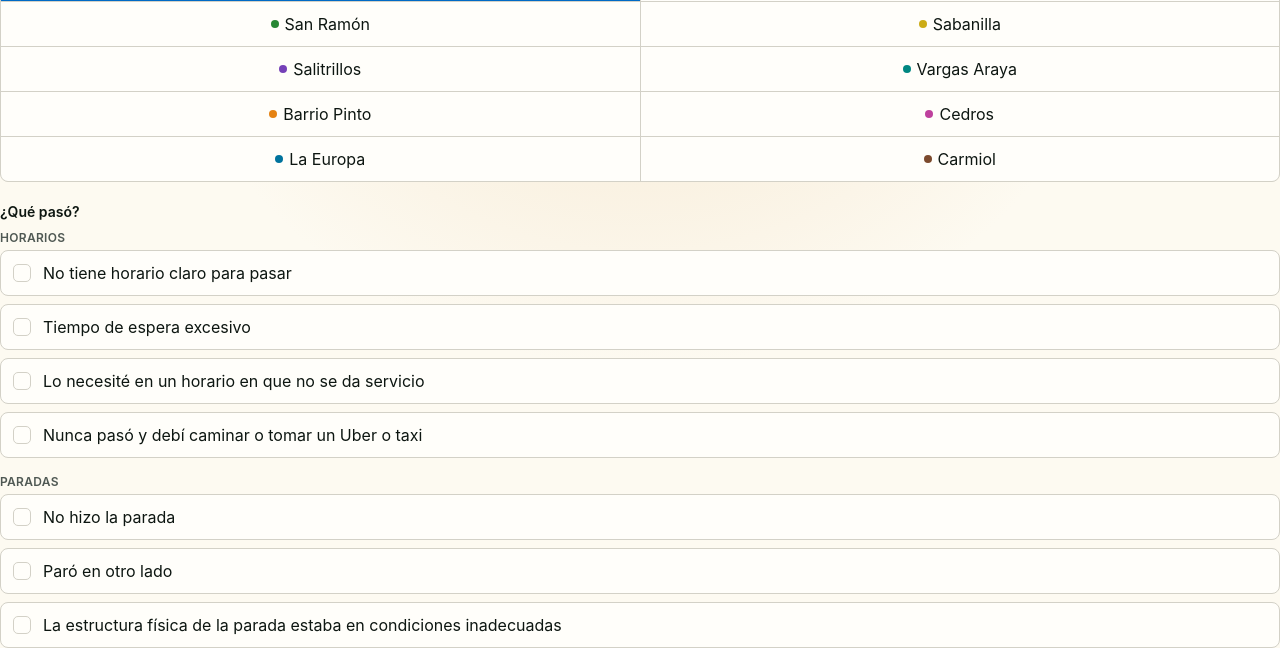
Test: ReportForm › shows the missing-problems reminder and keeps submission disabled until a problem is selected
Click the button "No tiene horario claro para pasar" at (167, 273), box x1=0 y1=250 x2=1279 y2=296
(page scrolled)
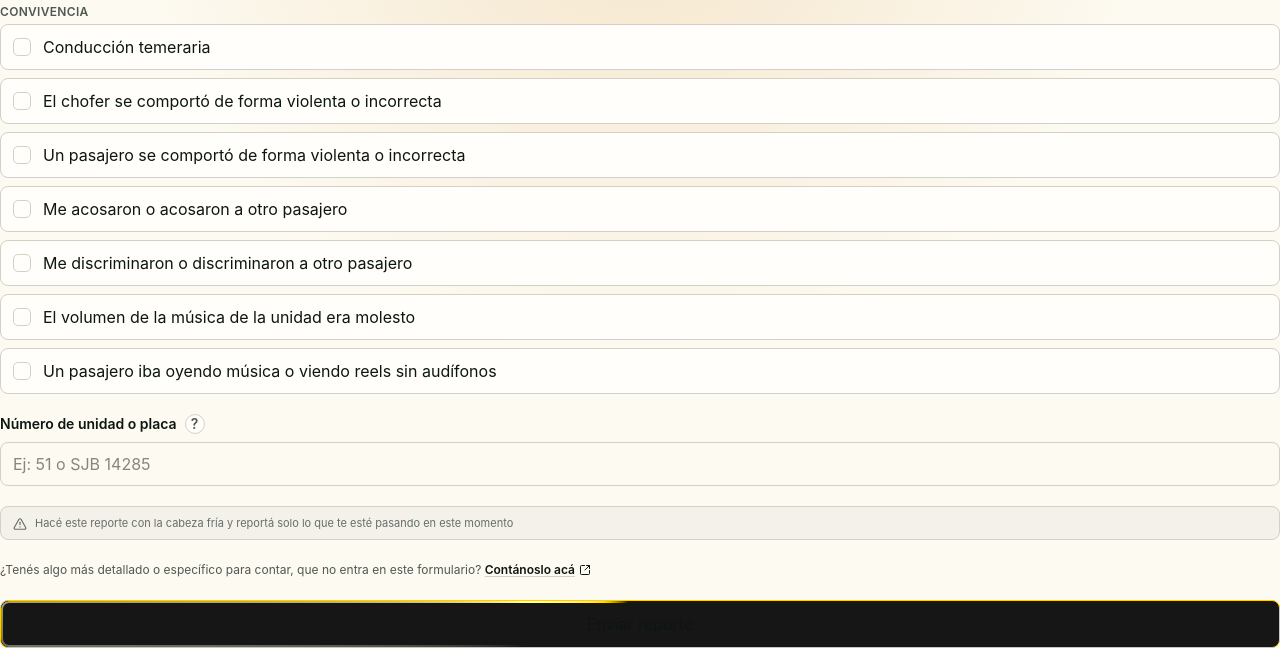
Check: the button with test id "submit-report" is enabled, box x1=0 y1=600 x2=1279 y2=647
